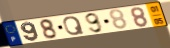8: (108, 9, 130, 31), (129, 6, 149, 28), (41, 18, 59, 40)
9: (84, 12, 105, 34), (20, 21, 40, 42)
Q: (62, 15, 86, 37)
